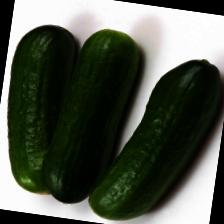cucumber: (85, 45, 224, 224), (37, 22, 145, 212), (0, 18, 80, 197)
